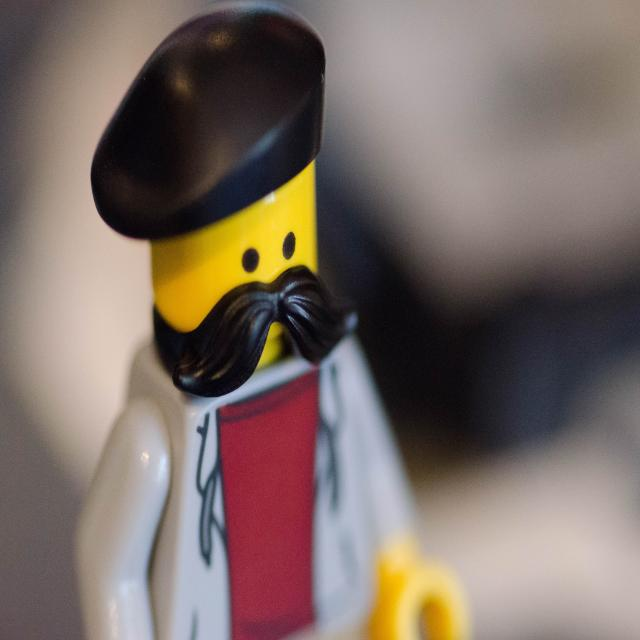Plastic: (87, 13, 413, 640)
